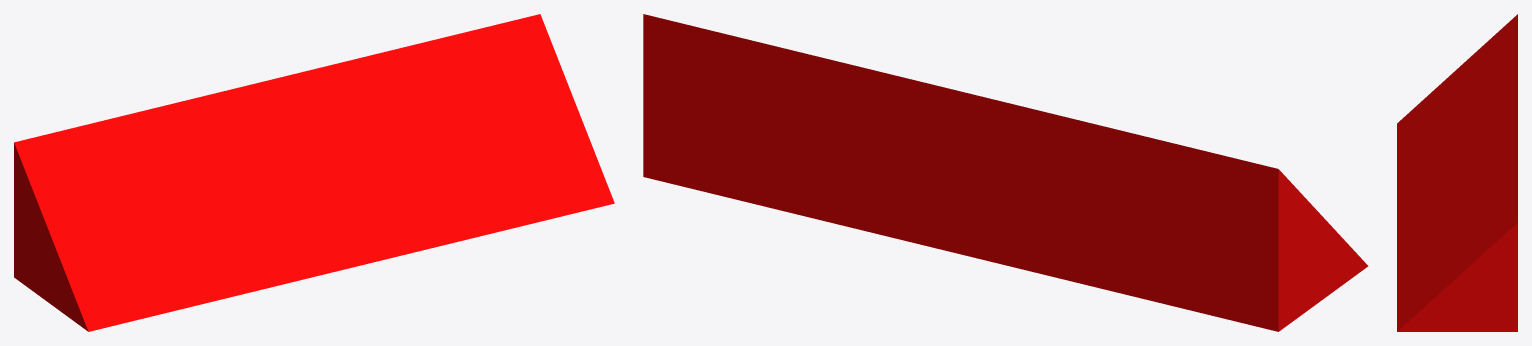
Rendered from bay_roof_4.fbx.
3 renders of one model, left to right at view 1: azimuth 30°, elevation 25°; view 2: azimuth 150°, elevation 25°; view 3: azimuth 270°, elevation 25°, orthographic. The views are drawn at different scales.
Parts seen in each view (by area): view 1: Mesh1_Model; view 2: Mesh1_Model; view 3: Mesh1_Model.
Boxes of the visible parts, x1,y1,x2,y2 form: Mesh1_Model: (14,14,614,331); Mesh1_Model: (643,14,1368,331); Mesh1_Model: (1397,14,1517,331).
Bounding box in the file's own units: 1.22 × 0.3 × 0.3.
